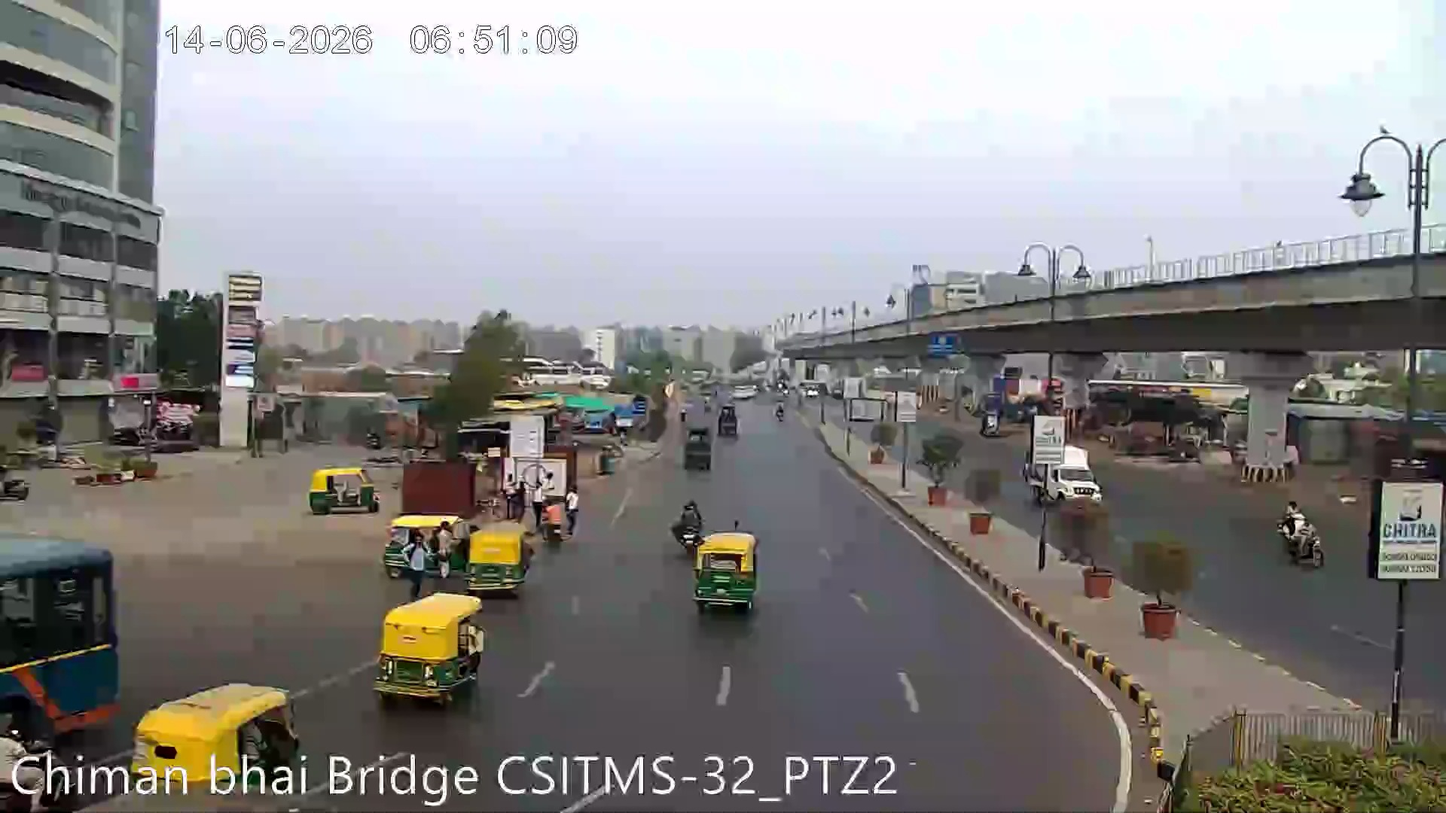auto_rickshaw: (128, 677, 310, 786), (374, 590, 488, 705), (380, 509, 470, 575), (691, 529, 761, 611), (465, 522, 532, 593), (305, 459, 380, 517), (680, 426, 715, 476), (0, 464, 33, 502), (718, 402, 743, 442)
bus: (0, 522, 142, 767)
car: (1025, 457, 1105, 503), (1040, 462, 1106, 506), (0, 463, 32, 502)
pedestrian: (564, 481, 583, 533)
two_wheeler: (1274, 496, 1326, 569), (668, 495, 706, 550), (772, 397, 788, 427)
